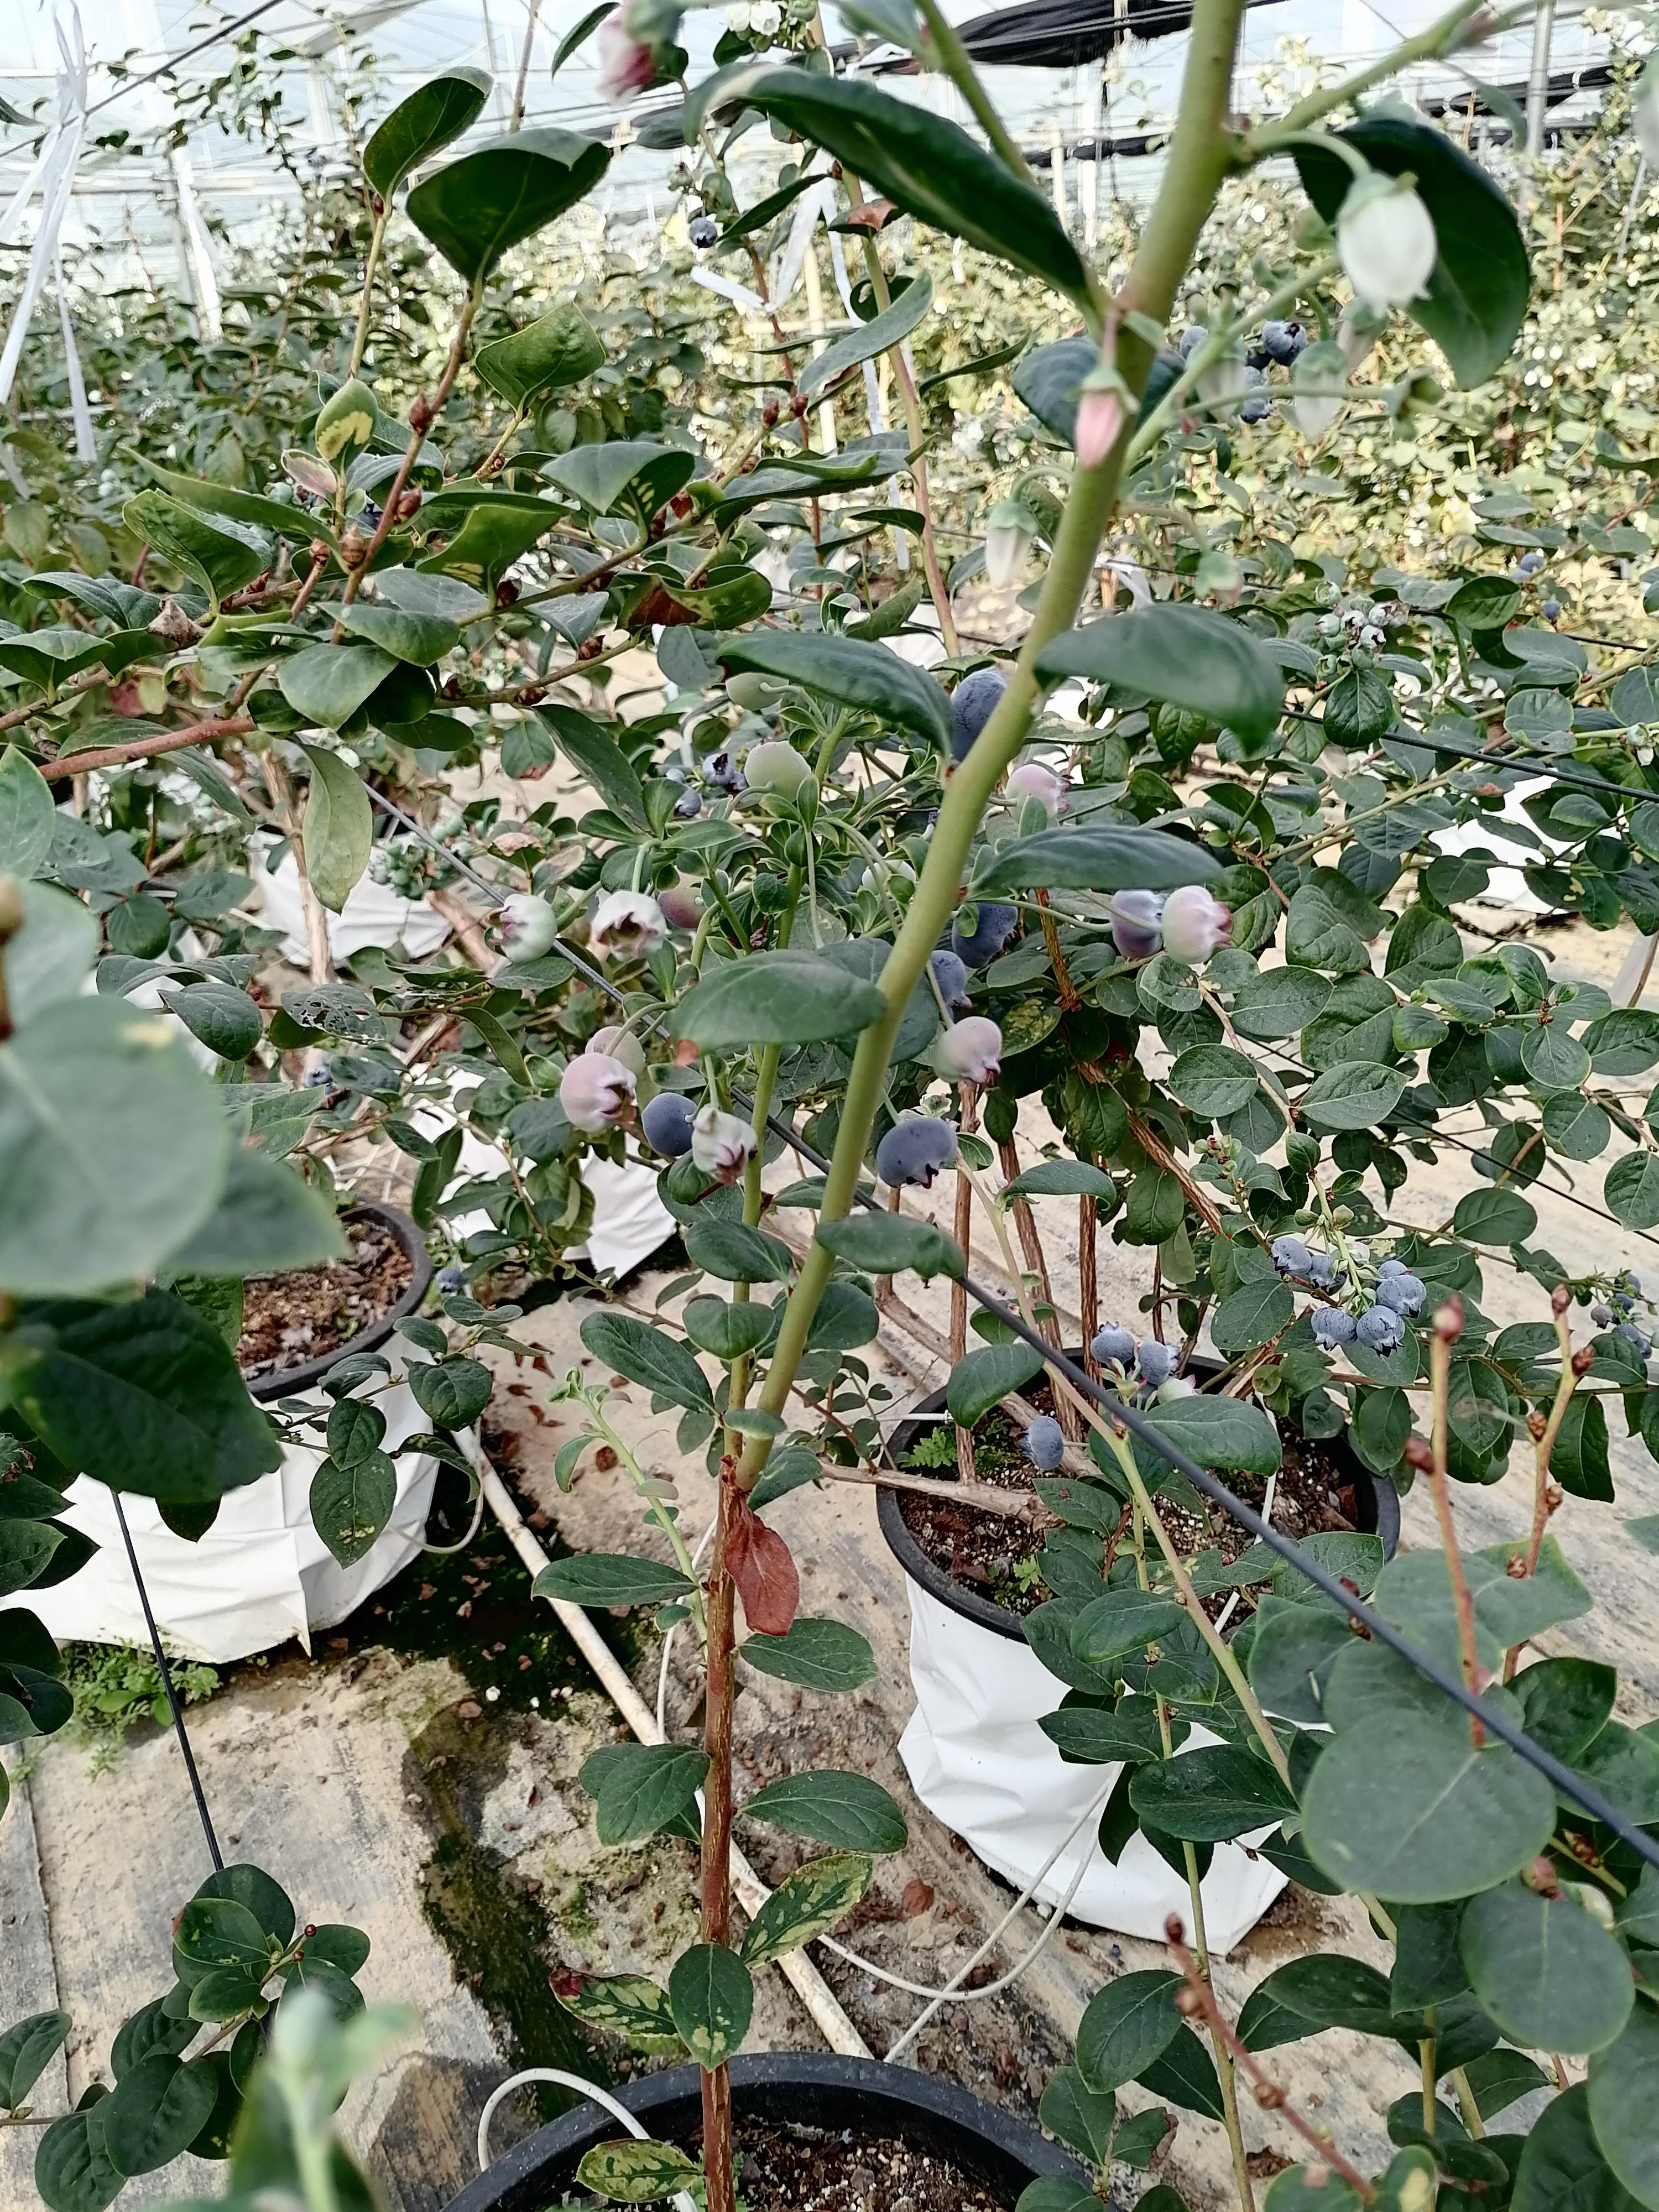ripe-blueberries: (877, 1115, 958, 1190), (951, 667, 1007, 763), (951, 895, 1018, 968), (641, 1092, 699, 1158), (931, 951, 972, 1021), (1356, 1306, 1406, 1359), (1016, 1416, 1063, 1470), (1089, 1320, 1138, 1371), (1375, 1275, 1427, 1318), (1262, 320, 1307, 368), (1312, 1306, 1358, 1352), (1138, 1339, 1180, 1385), (1272, 1238, 1312, 1277), (1309, 1254, 1347, 1291), (702, 752, 735, 786), (688, 216, 718, 247), (1180, 326, 1208, 359), (1239, 397, 1272, 423), (674, 787, 701, 819), (436, 1266, 464, 1294), (1610, 1292, 1633, 1322), (1377, 1259, 1410, 1278), (1617, 1271, 1642, 1296), (723, 772, 748, 794), (1614, 1322, 1640, 1343), (1248, 366, 1265, 392), (1520, 552, 1542, 571), (1636, 1338, 1654, 1360), (1544, 599, 1561, 618), (667, 770, 685, 786), (1513, 571, 1530, 582)
